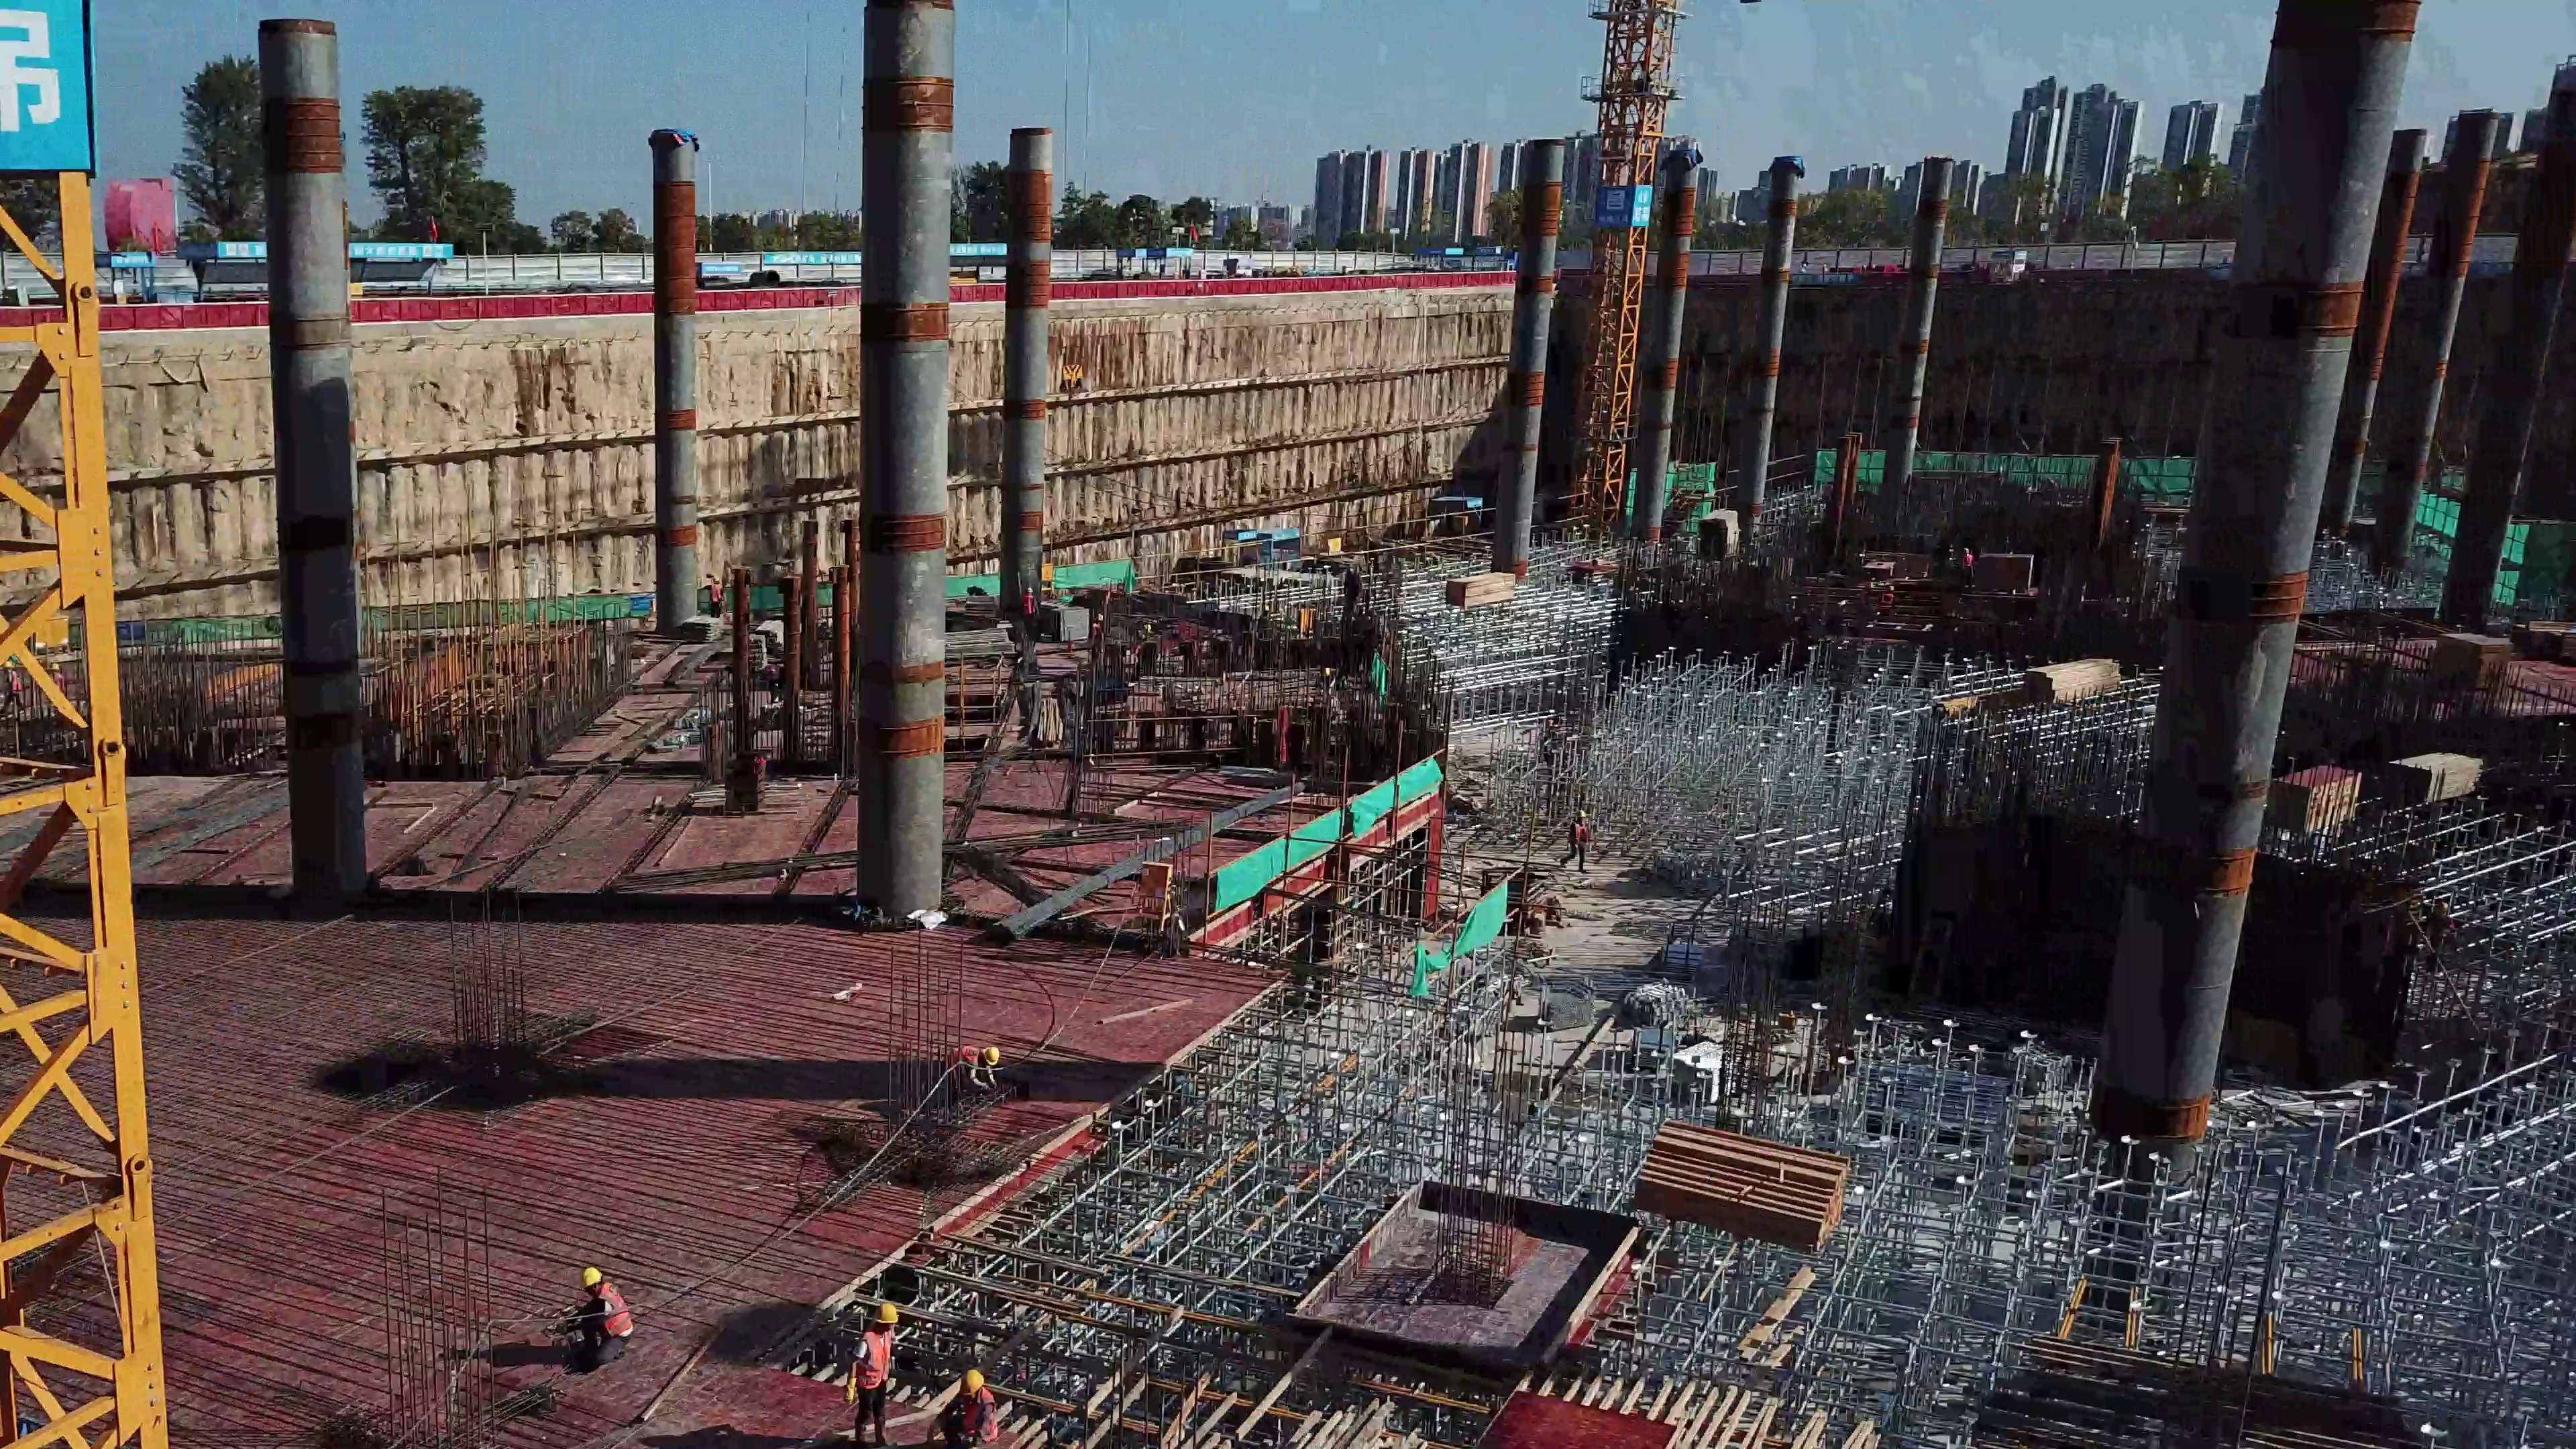board: (2265, 749, 2363, 836)
ebox: (1040, 556, 1055, 595), (1326, 534, 1344, 557)
fence: (351, 289, 654, 321), (1255, 268, 1515, 294), (696, 283, 865, 313), (98, 303, 270, 327), (1051, 278, 1253, 300), (950, 283, 1006, 302)
helmet: (870, 1301, 904, 1329), (958, 1371, 989, 1393), (580, 1267, 608, 1289), (981, 1042, 1002, 1066), (1, 661, 17, 672), (48, 657, 62, 670), (712, 573, 724, 584), (1573, 808, 1588, 818), (1024, 586, 1034, 594)
person: (831, 1291, 906, 1449), (539, 1268, 643, 1367), (936, 1362, 1020, 1446), (938, 1028, 1018, 1104), (1560, 796, 1599, 879), (702, 567, 736, 620), (43, 659, 68, 708), (1, 660, 23, 713)
rebar: (1009, 775, 1309, 936), (610, 825, 1191, 892), (957, 844, 1108, 937)
scaffold: (1671, 1038, 1732, 1099)
vest: (956, 1395, 1004, 1444), (853, 1328, 892, 1390), (594, 1287, 633, 1338), (946, 1043, 982, 1070), (1569, 819, 1589, 843), (710, 583, 722, 602), (1023, 595, 1034, 614)
wood: (1620, 1120, 1854, 1263), (2028, 650, 2127, 706), (1446, 562, 1519, 610)
